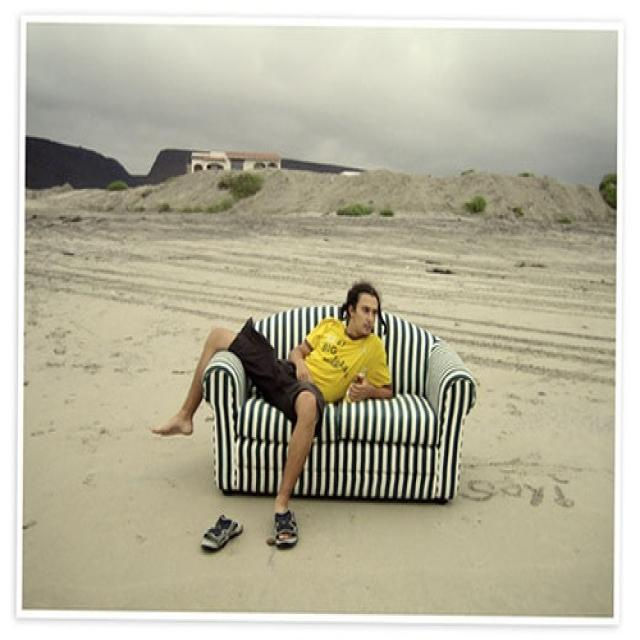sofa: (200, 297, 478, 510)
